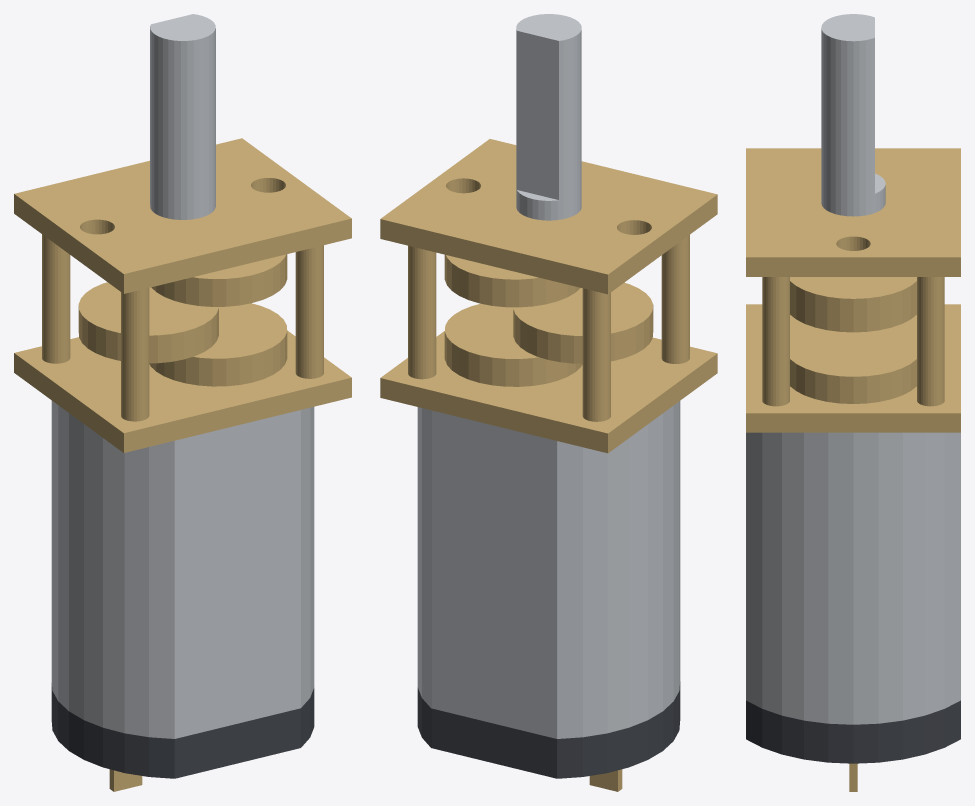
File: model_display.glb
3 views of the same model, side by side, from view 1: azimuth 30°, elevation 25°; view 2: azimuth 150°, elevation 25°; view 3: azimuth 270°, elevation 25° (orthographic). The views are drawn at different scales.
Parts seen in each view (by area): view 1: motor_can, gearbox_plate_1, gearbox_plate_0, output_d_shaft, rear_cap, illustrative_gear_disc_1, illustrative_gear_disc_0, illustrative_gear_disc_2, gearbox_pillar_-4.6_-3.6, gearbox_pillar_4.6_-3.6, gearbox_pillar_-4.6_3.6; view 2: motor_can, gearbox_plate_1, gearbox_plate_0, output_d_shaft, rear_cap, illustrative_gear_disc_1, illustrative_gear_disc_0, illustrative_gear_disc_2, gearbox_pillar_-4.6_3.6, gearbox_pillar_4.6_3.6, gearbox_pillar_-4.6_-3.6; view 3: motor_can, gearbox_plate_1, output_d_shaft, gearbox_plate_0, illustrative_gear_disc_0, rear_cap, illustrative_gear_disc_2, gearbox_pillar_4.6_-3.6, gearbox_pillar_4.6_3.6, illustrative_gear_disc_1.
Boxes of the visible parts, x1=… form: motor_can: x1=51, y1=400, x2=314, y2=738; gearbox_plate_1: x1=14, y1=138, x2=351, y2=293; gearbox_plate_0: x1=14, y1=330, x2=351, y2=452; output_d_shaft: x1=150, y1=14, x2=215, y2=219; rear_cap: x1=51, y1=683, x2=314, y2=778; illustrative_gear_disc_1: x1=78, y1=282, x2=218, y2=363; illustrative_gear_disc_0: x1=149, y1=303, x2=287, y2=386; illustrative_gear_disc_2: x1=151, y1=254, x2=287, y2=306; gearbox_pillar_-4.6_-3.6: x1=121, y1=288, x2=149, y2=421; gearbox_pillar_4.6_-3.6: x1=295, y1=245, x2=323, y2=378; gearbox_pillar_-4.6_3.6: x1=42, y1=234, x2=70, y2=363; motor_can: x1=417, y1=401, x2=680, y2=738; gearbox_plate_1: x1=380, y1=139, x2=717, y2=294; gearbox_plate_0: x1=380, y1=331, x2=717, y2=453; output_d_shaft: x1=516, y1=14, x2=581, y2=220; rear_cap: x1=417, y1=681, x2=680, y2=778; illustrative_gear_disc_1: x1=513, y1=282, x2=653, y2=363; illustrative_gear_disc_0: x1=444, y1=303, x2=582, y2=386; illustrative_gear_disc_2: x1=444, y1=254, x2=580, y2=307; gearbox_pillar_-4.6_3.6: x1=582, y1=288, x2=610, y2=421; gearbox_pillar_4.6_3.6: x1=408, y1=245, x2=436, y2=379; gearbox_pillar_-4.6_-3.6: x1=661, y1=235, x2=689, y2=363; motor_can: x1=746, y1=432, x2=960, y2=724; gearbox_plate_1: x1=746, y1=148, x2=960, y2=276; output_d_shaft: x1=821, y1=14, x2=885, y2=216; gearbox_plate_0: x1=746, y1=304, x2=960, y2=432; illustrative_gear_disc_0: x1=790, y1=325, x2=916, y2=403; rear_cap: x1=746, y1=700, x2=960, y2=763; illustrative_gear_disc_2: x1=790, y1=277, x2=916, y2=326; gearbox_pillar_4.6_-3.6: x1=762, y1=277, x2=789, y2=406; gearbox_pillar_4.6_3.6: x1=917, y1=277, x2=944, y2=406; illustrative_gear_disc_1: x1=790, y1=308, x2=916, y2=332.
Bounding box in the file's own units: 0.012 × 0.0375 × 0.01.
